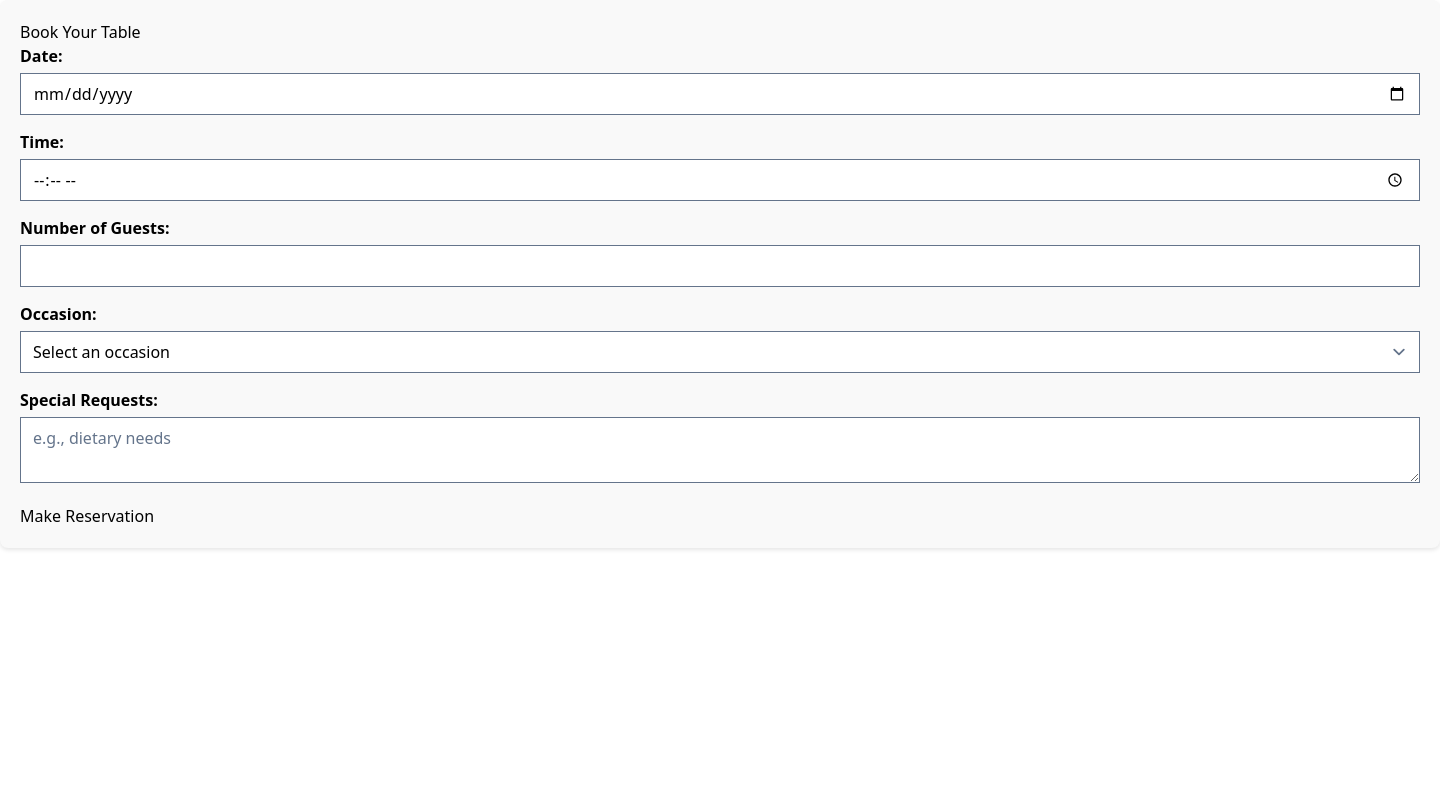
Test: submits form with valid data
Type "2025-07-01" into the date field labelled "Date:" at (720, 94), box [20,73,1420,115]
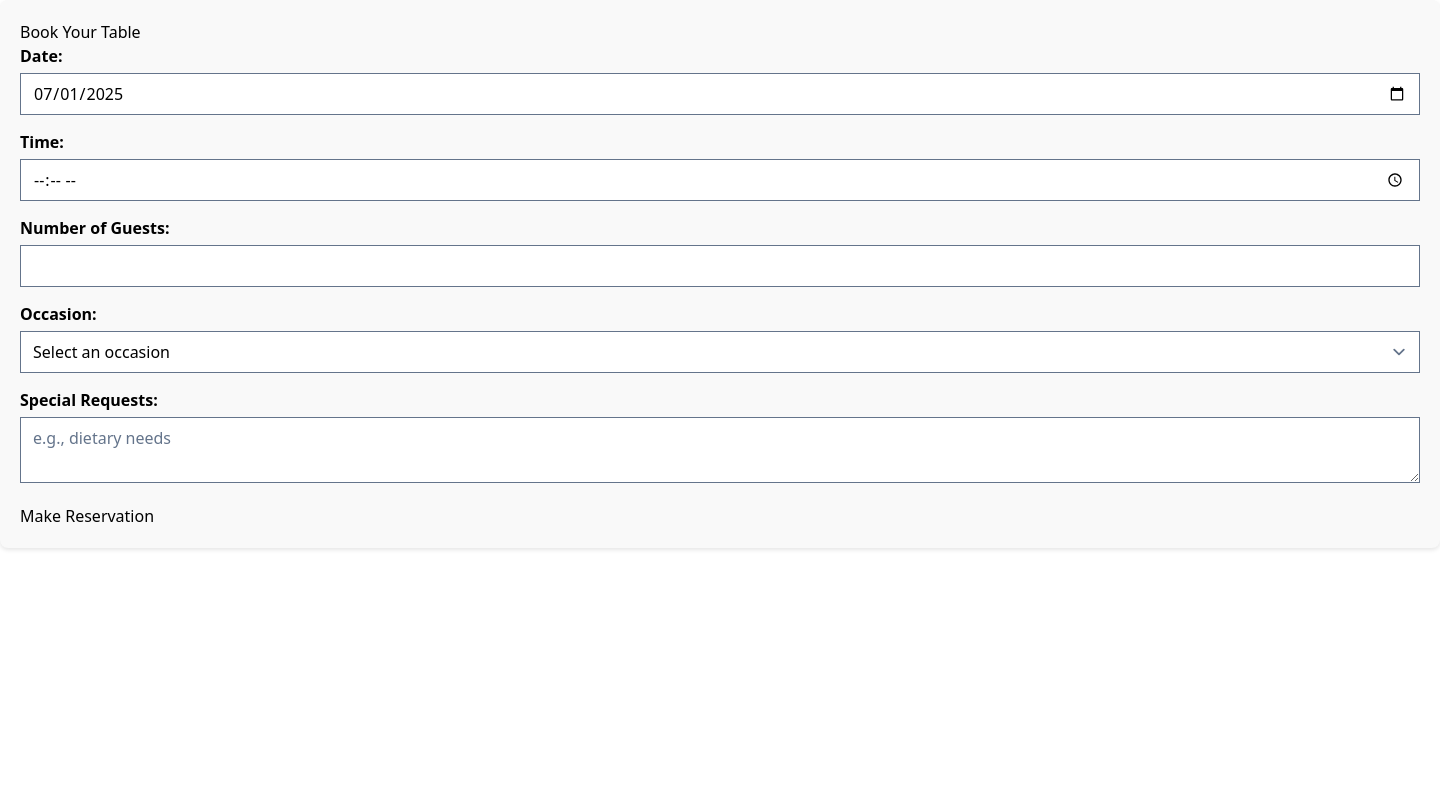
Type "12:00" into the time field labelled "Time:" at (720, 180), box [20,159,1420,201]
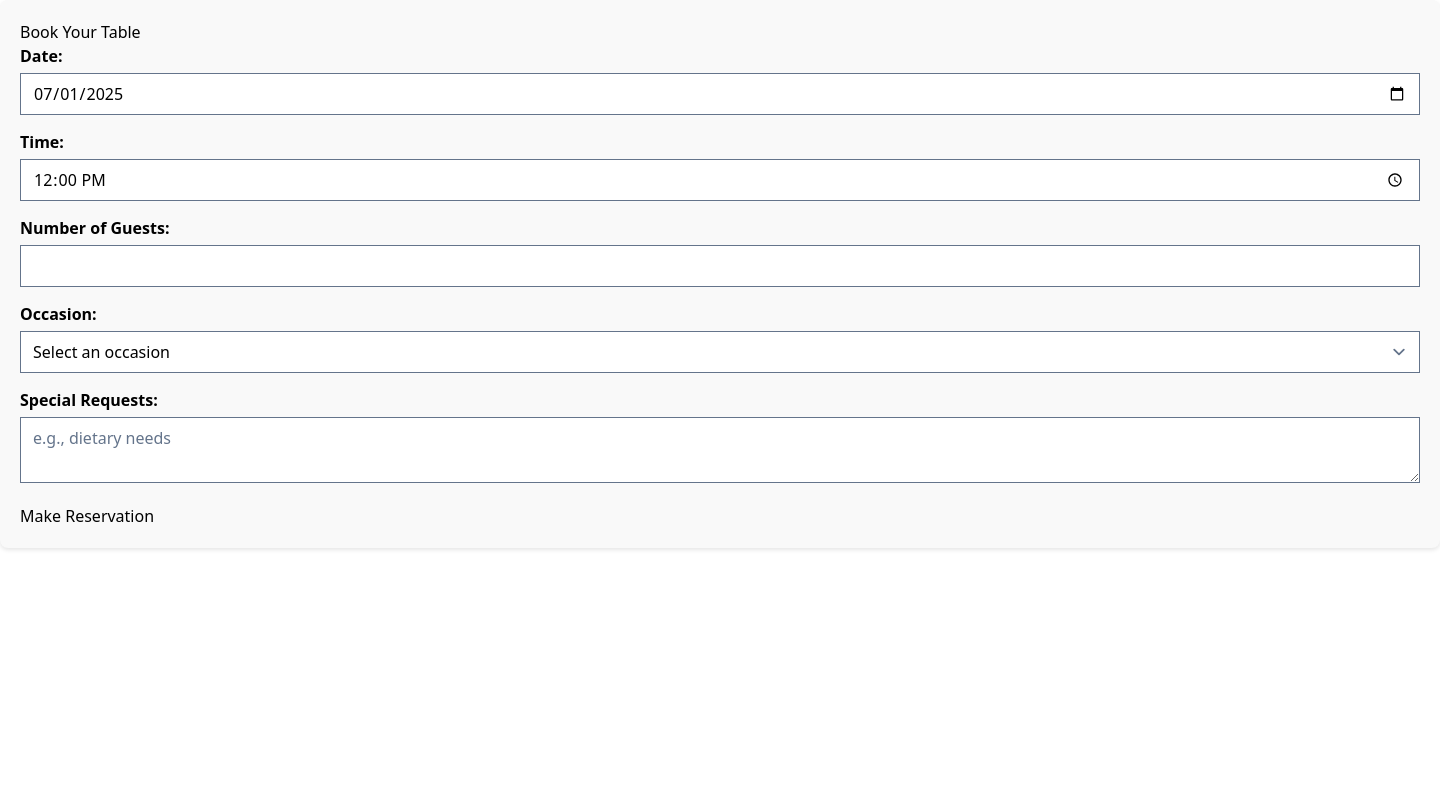
Type "4" into the number field labelled "Number of Guests:" at (720, 266), box [20,245,1420,287]
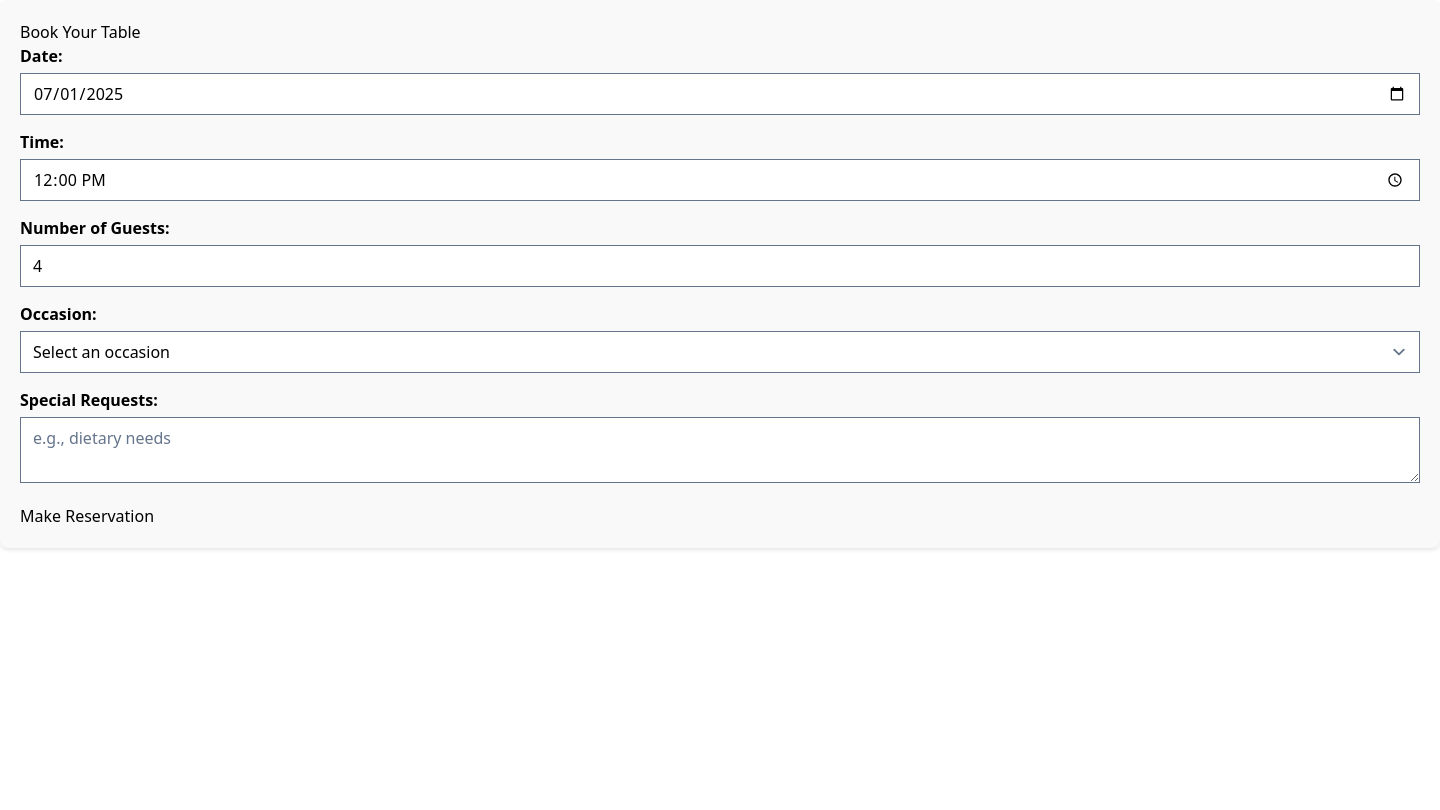
Click the button "Make Reservation" at (87, 516), box [20,504,154,528]
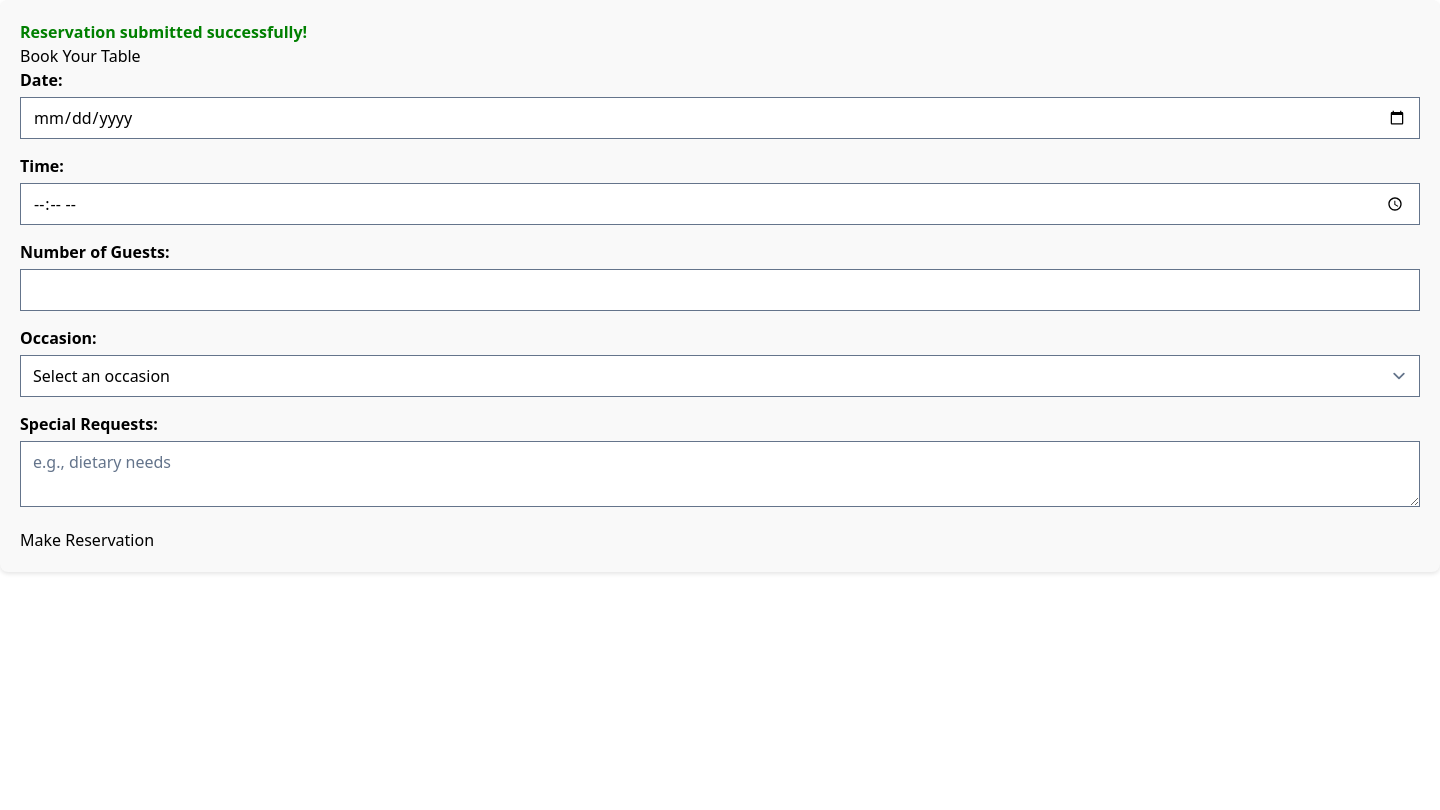
expect the text "Reservation submitted successfully!" is shown: met, box [20,21,307,43]
